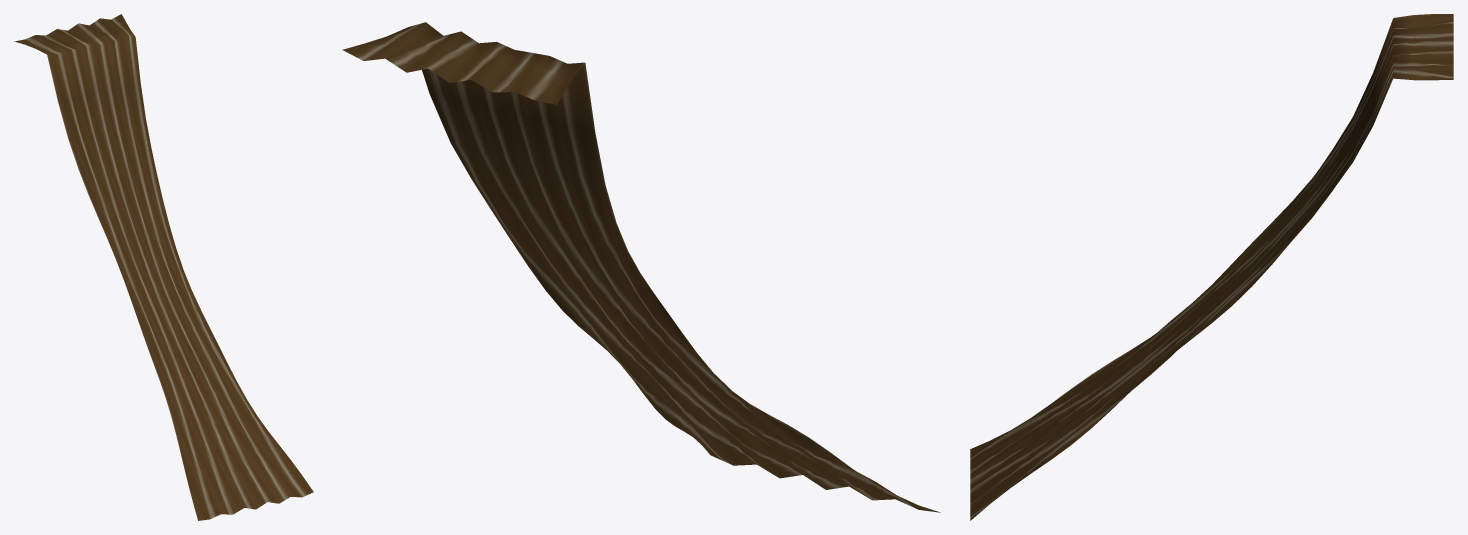
The model's file is cascade-hukou-lod0.glb.
3 renders of one model, left to right at view 1: azimuth 30°, elevation 25°; view 2: azimuth 150°, elevation 25°; view 3: azimuth 270°, elevation 25°, orthographic. The views are drawn at different scales.
Bounding box in the file's own units: 0.355 × 1.01 × 1.
Materials: 1 (1 with a texture image).
